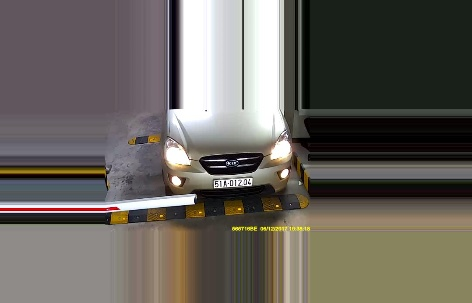plate: (210, 175, 258, 192)
